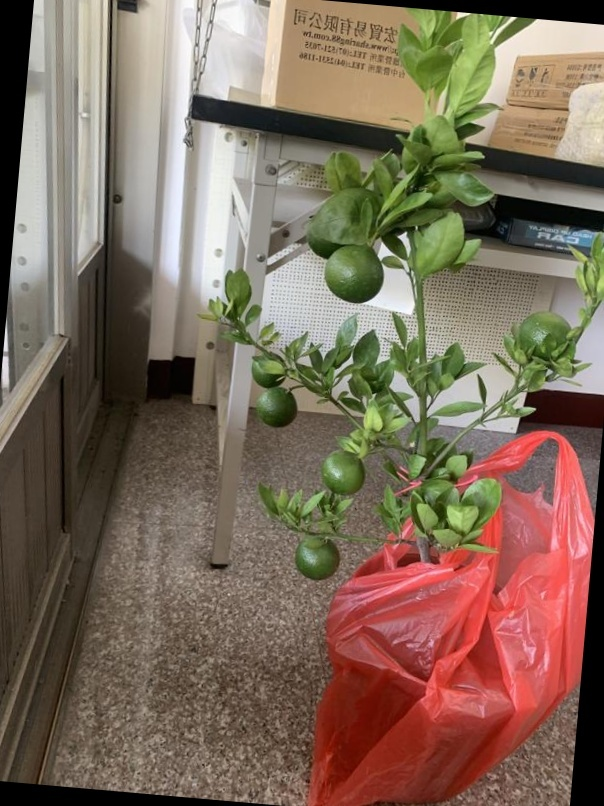Tangerine: (326, 246, 385, 306), (287, 534, 341, 583), (321, 442, 367, 497), (253, 383, 299, 429)
